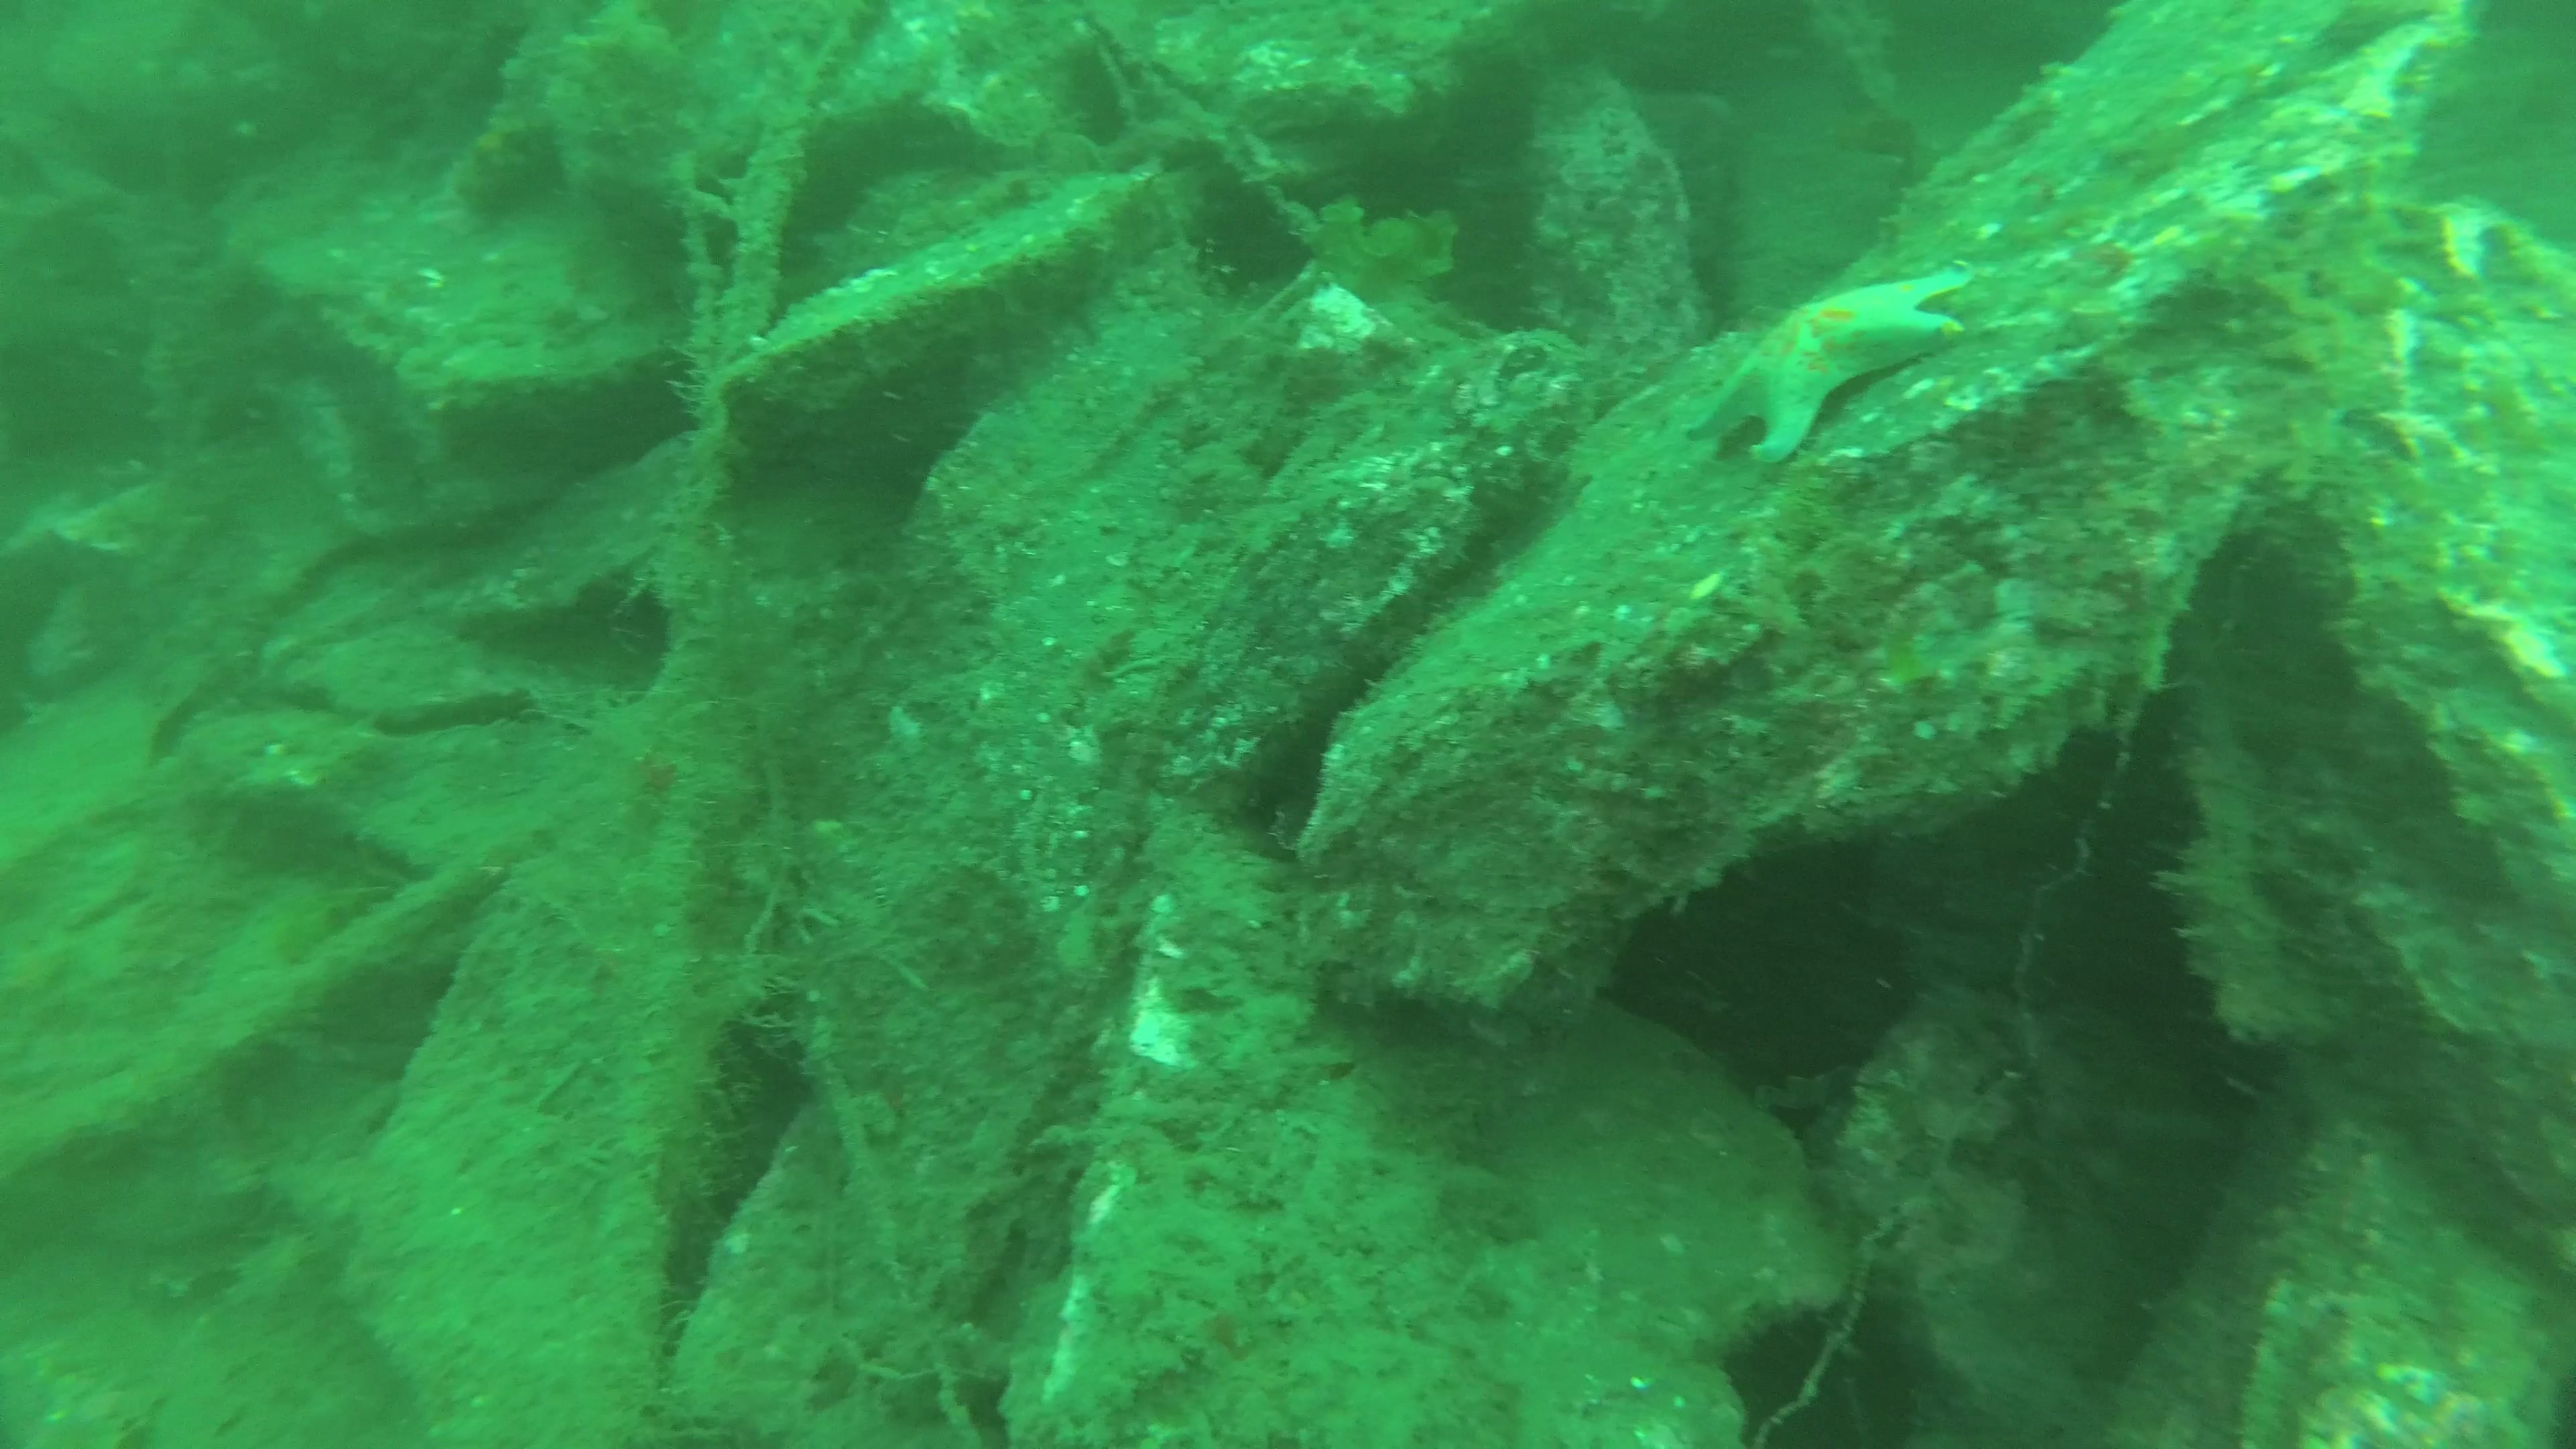starfish: (1698, 267, 1978, 467)
